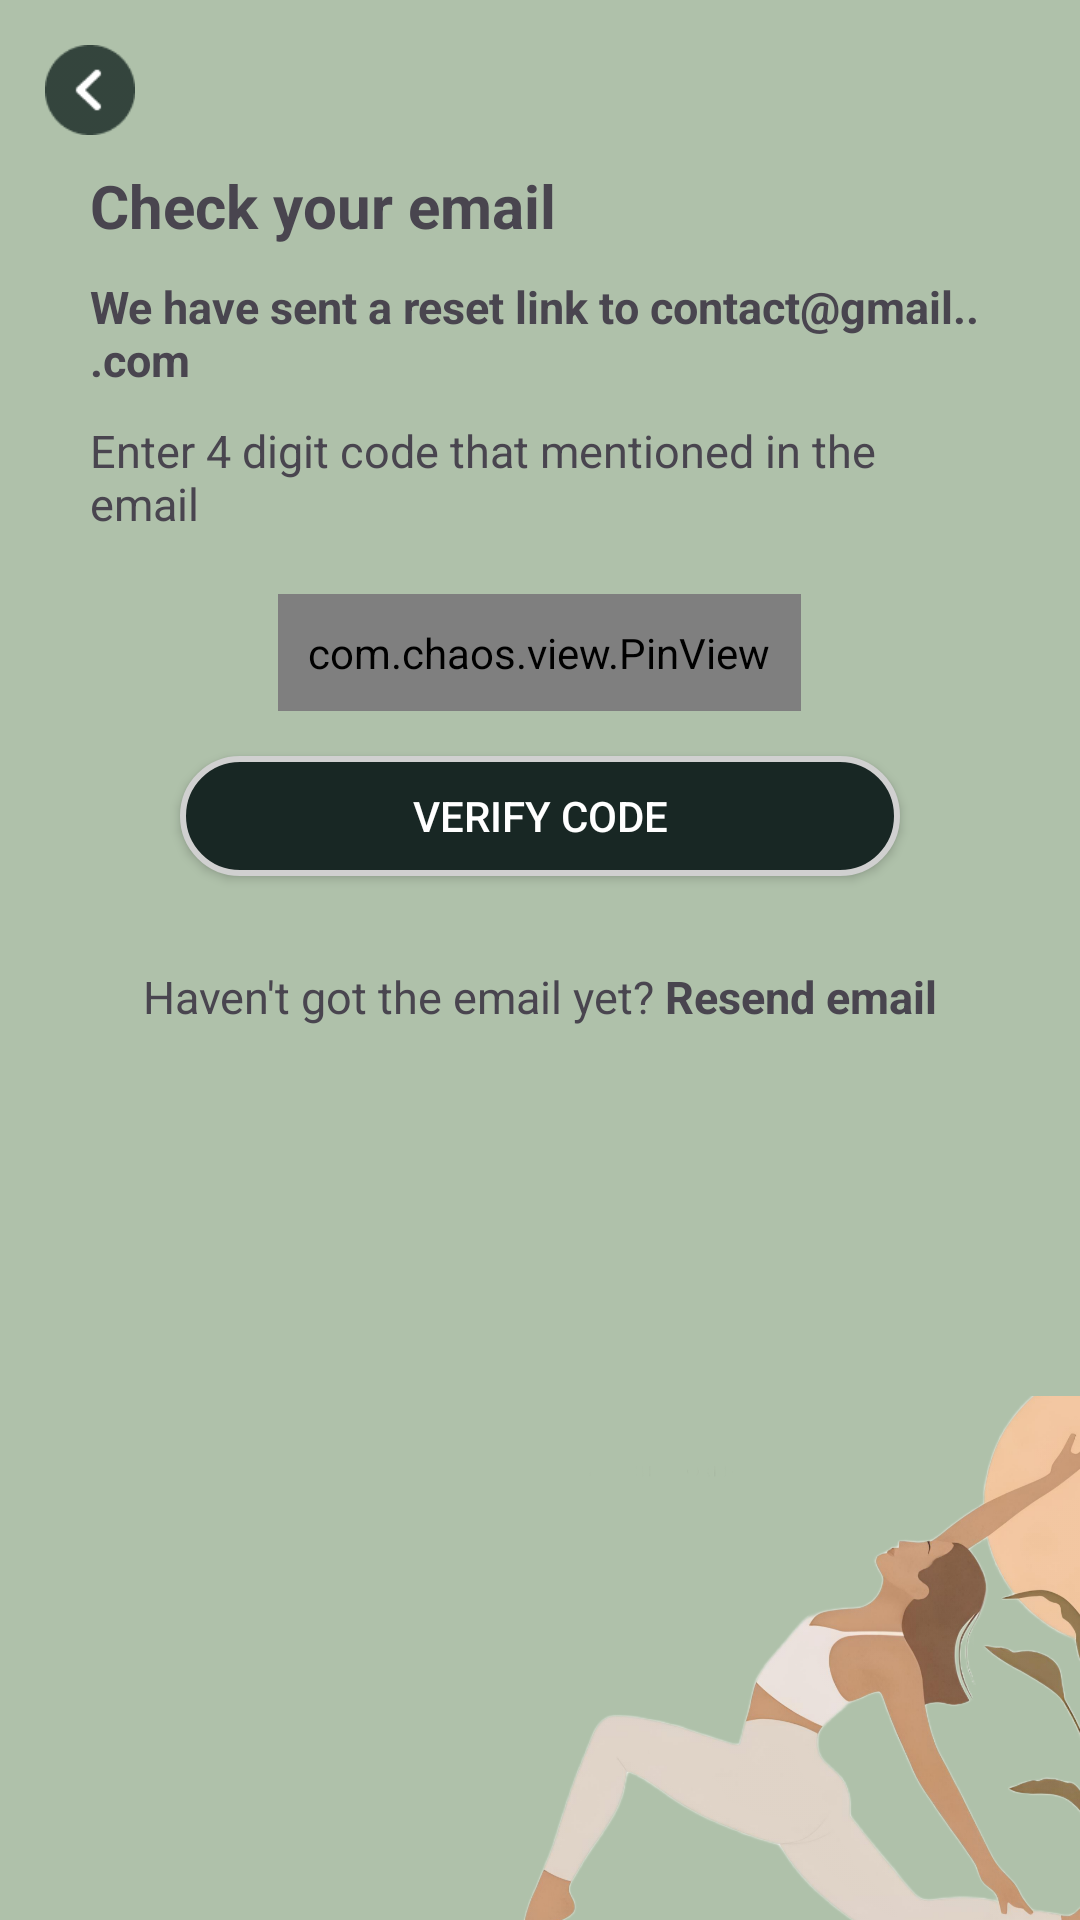

Screen size 1080px x 1920px. Icon name, then its center in pixels as [x,y]:
goback: [90,90]
